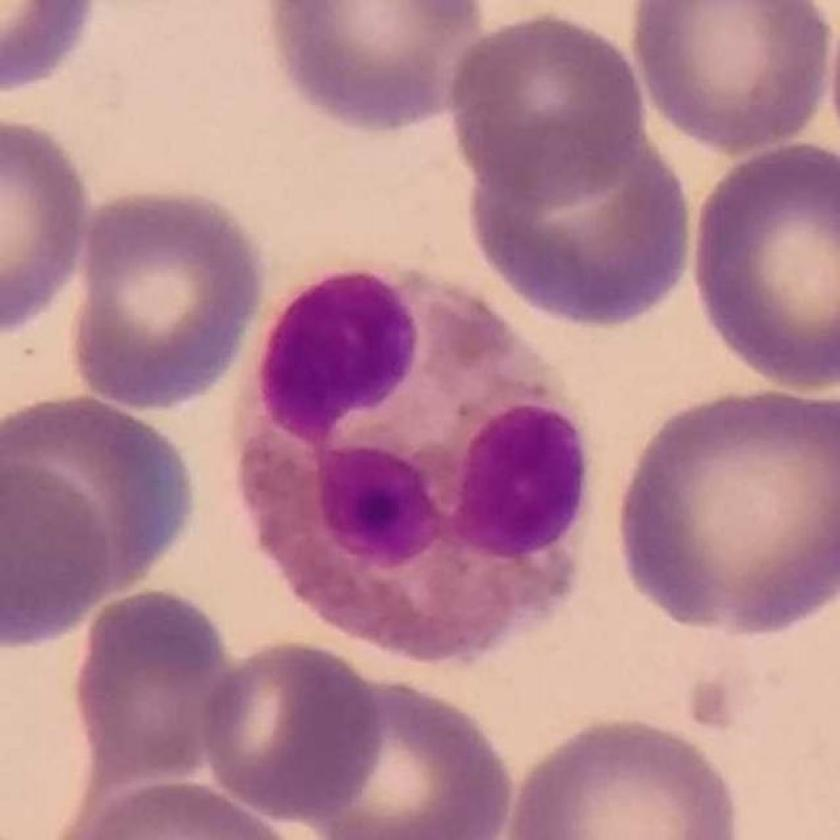eosinophil: (231, 255, 594, 679)
